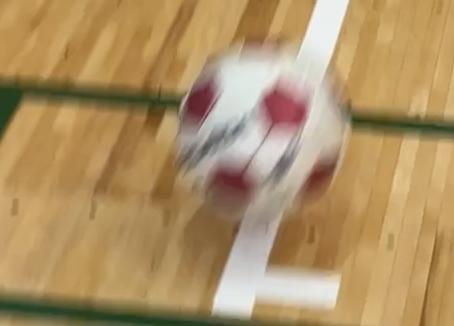Sports-Ball: (176, 41, 352, 222)
